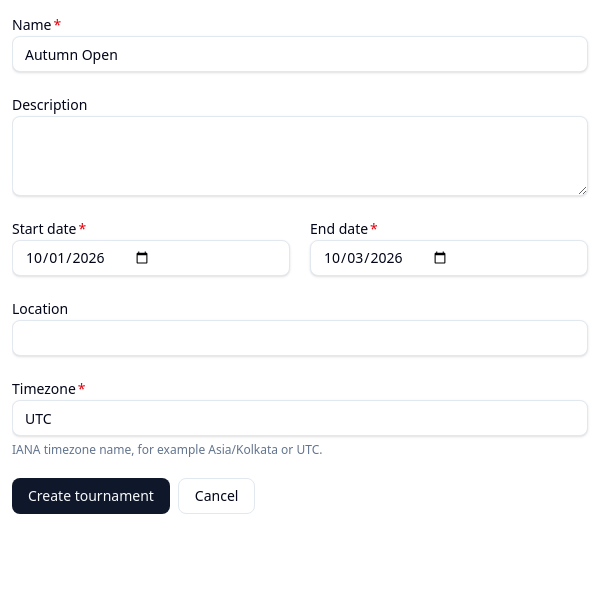
Scenario: TournamentForm › never displays raw internal error text
This screenshot has width=605, height=597.
What coordinates should you click on to do the following:
click the button "Create tournament"
I would click on:
 (91, 496)
Its box is [12,478,170,514].
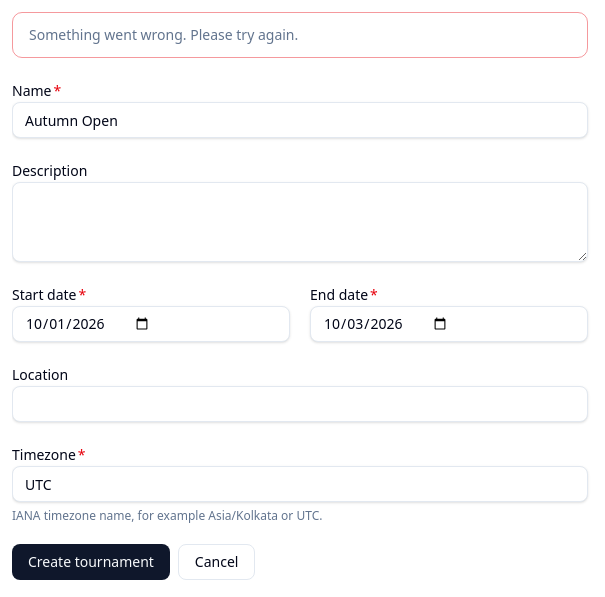
Expected: the text "Something went wrong. Please try again." is shown, [29,25,298,44]
